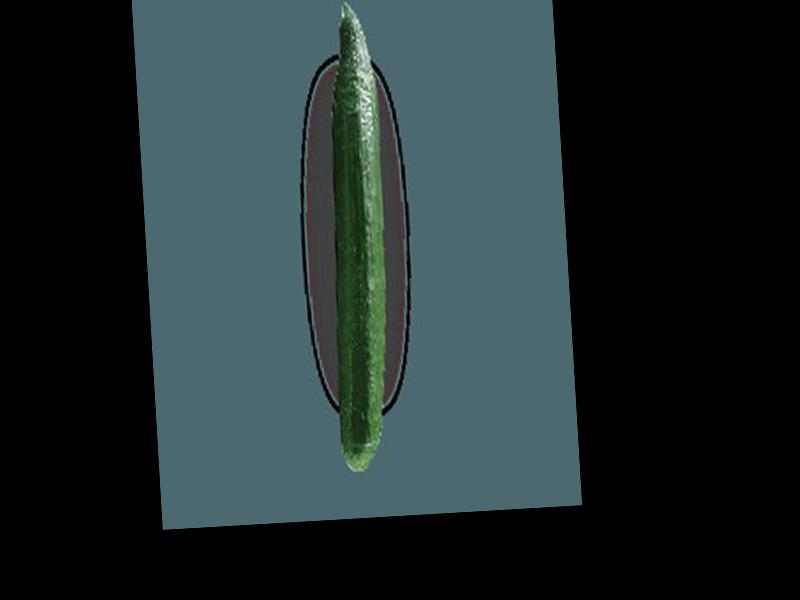Cucumber: (313, 0, 398, 474)
